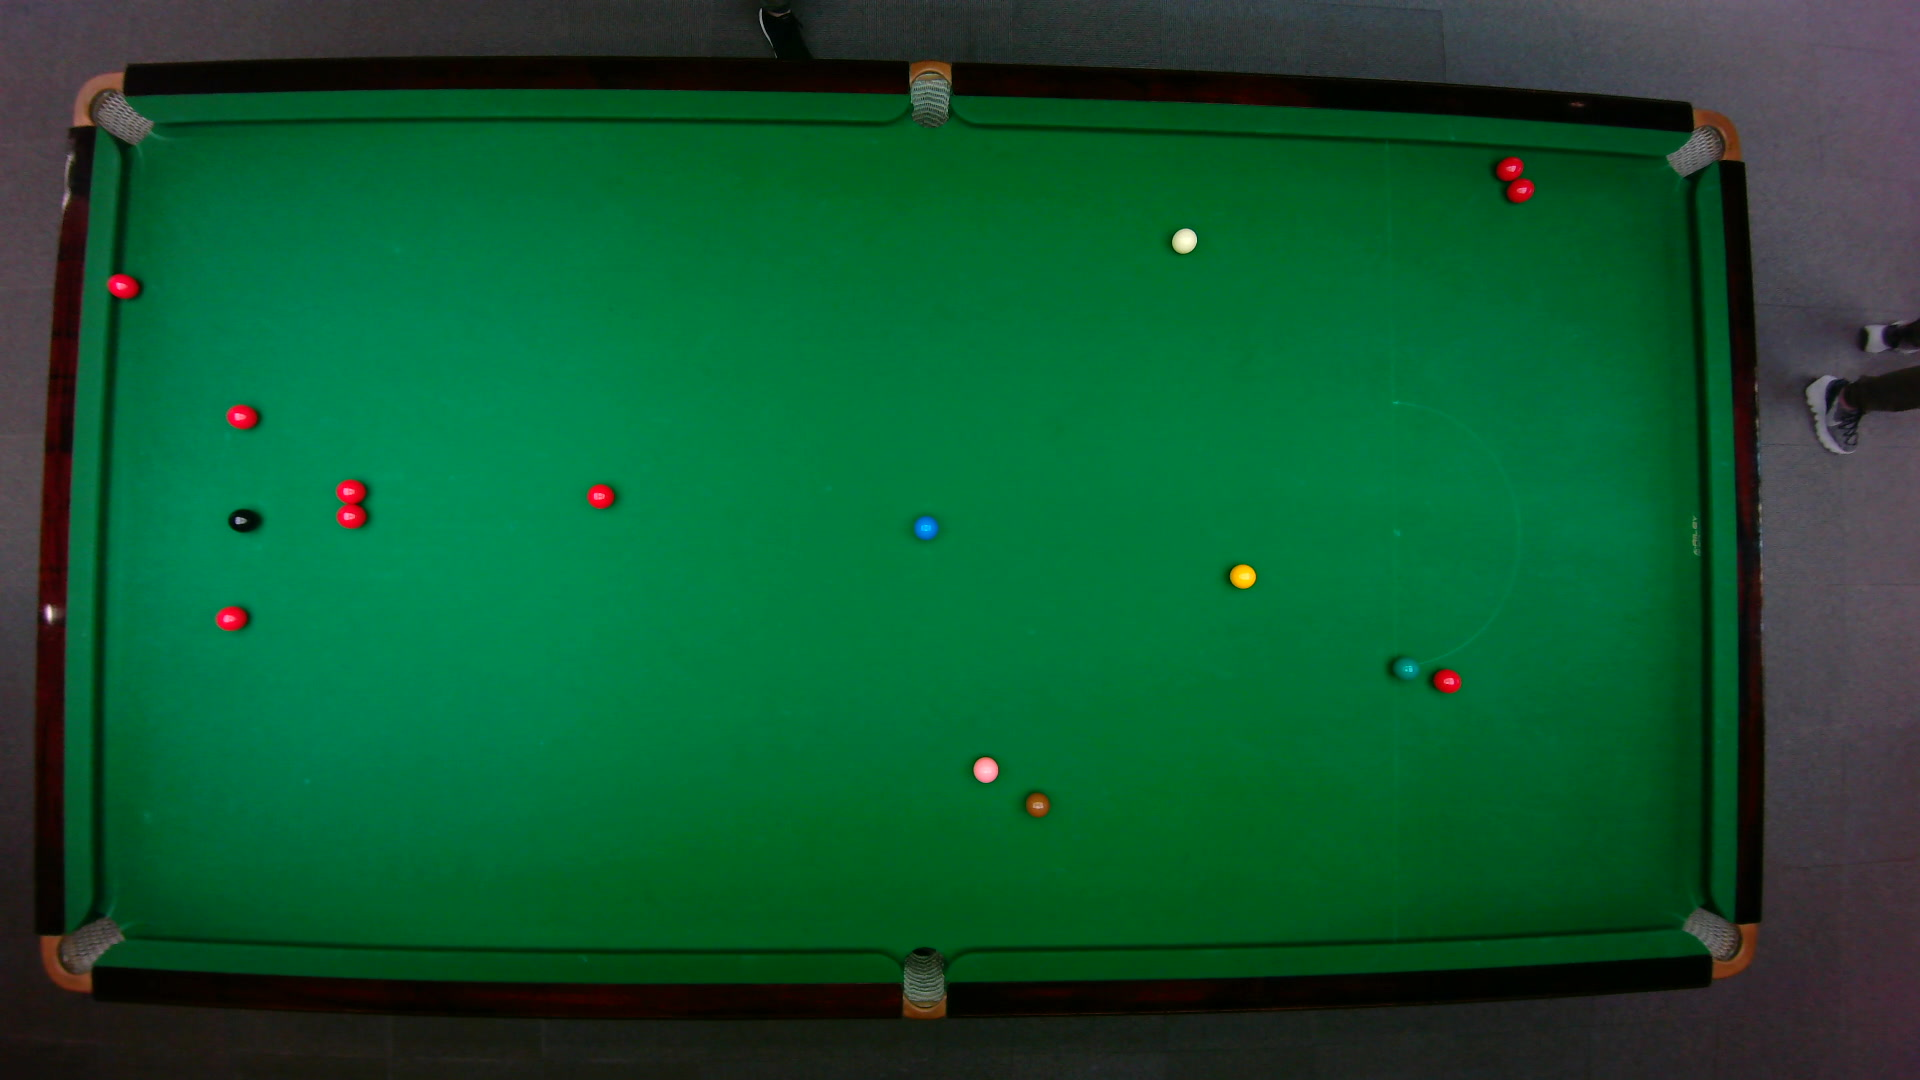bag: (38, 913, 127, 993), (70, 71, 153, 145), (1677, 905, 1756, 978), (1663, 108, 1741, 178), (901, 944, 944, 1021), (909, 57, 949, 128)
black: (224, 506, 258, 531)
blue: (911, 513, 938, 541)
brown: (1022, 790, 1050, 818)
green: (1389, 654, 1418, 679)
pink: (971, 754, 1000, 785)
red: (103, 270, 140, 299), (223, 401, 258, 430), (212, 603, 248, 632), (1493, 153, 1524, 182), (334, 476, 367, 504), (1503, 175, 1536, 202), (584, 481, 615, 509), (1429, 666, 1461, 692), (334, 504, 367, 529)
white: (1168, 225, 1197, 255)
yellow: (1226, 560, 1257, 588)
zone: (1389, 398, 1520, 669)
